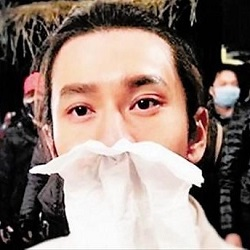mask: (50, 131, 198, 250)
